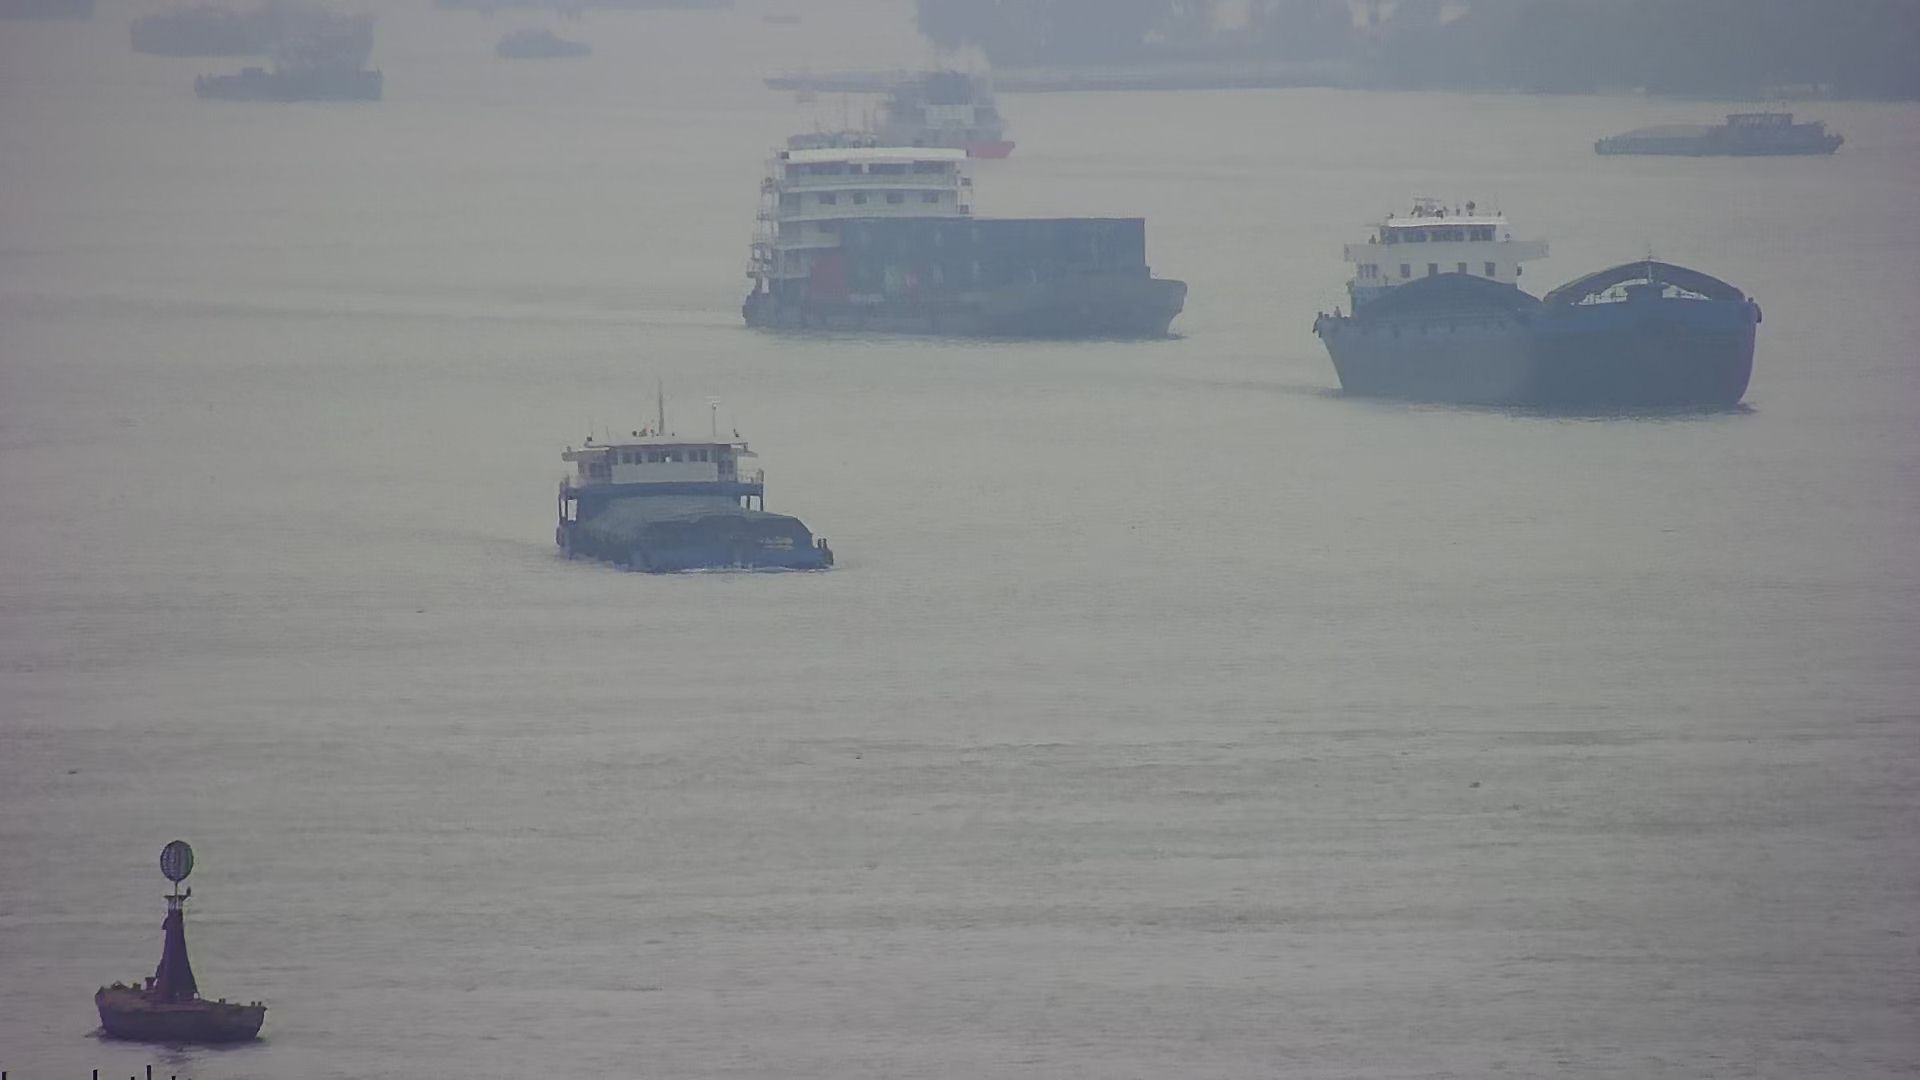boat: (96, 840, 266, 1038)
ship: (738, 141, 1187, 342), (1321, 204, 1758, 410), (555, 401, 832, 574), (757, 70, 1021, 164), (1596, 115, 1842, 160)
